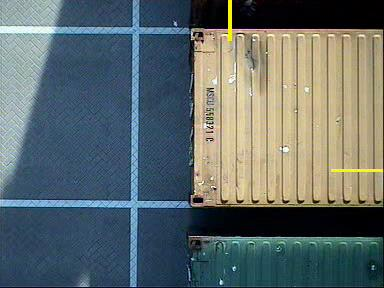groundmarker_2: (105, 149, 160, 190), (108, 3, 163, 44)
